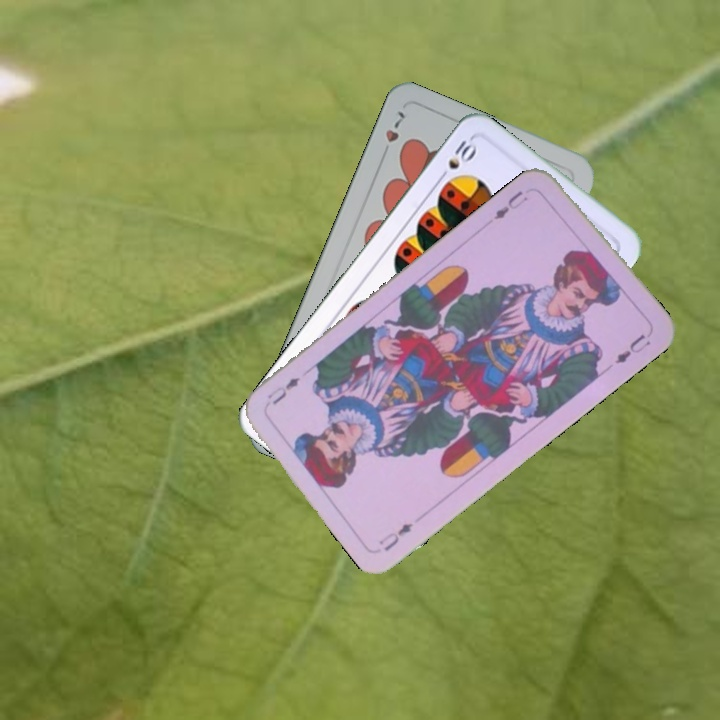EU: (489, 186, 531, 223), (374, 519, 416, 554)
H7: (379, 107, 408, 161)
S10: (434, 136, 479, 184)
